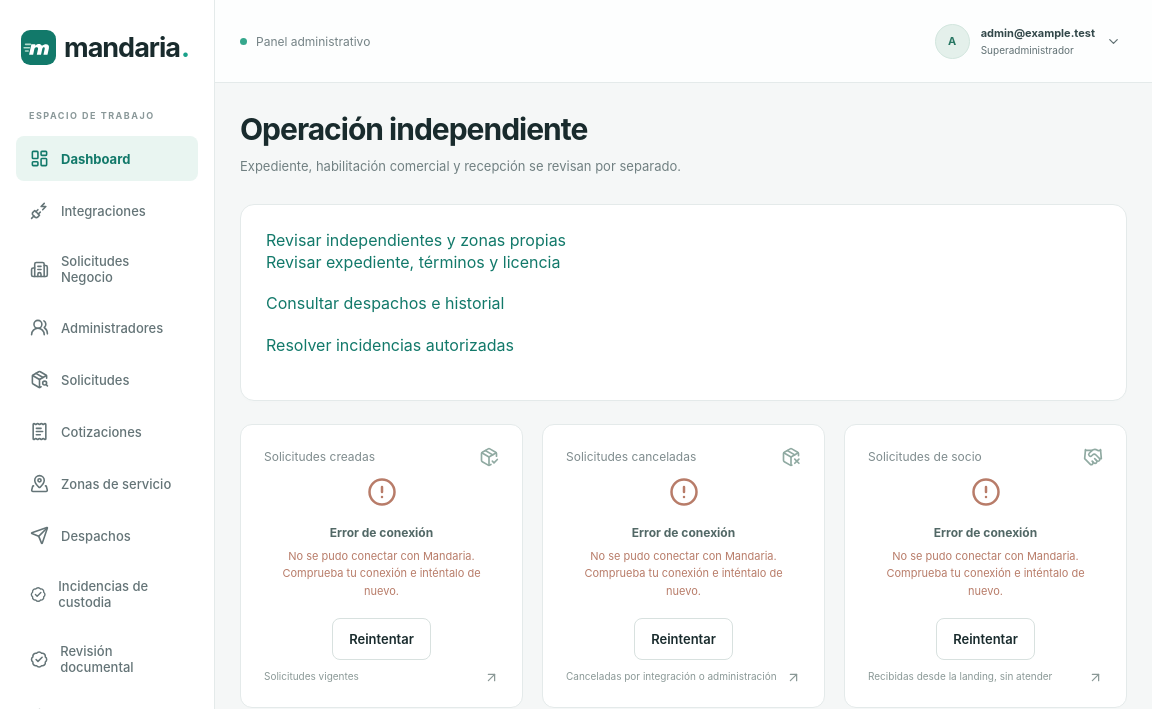
service zones list › opens from the menu and shows name, code, status, currency and the active rate
The image size is (1152, 709).
What coordinates should you click on to do the following:
click the link "Zonas de servicio"
I would click on:
 (101, 484)
Its box is 30,474 -> 171,493.
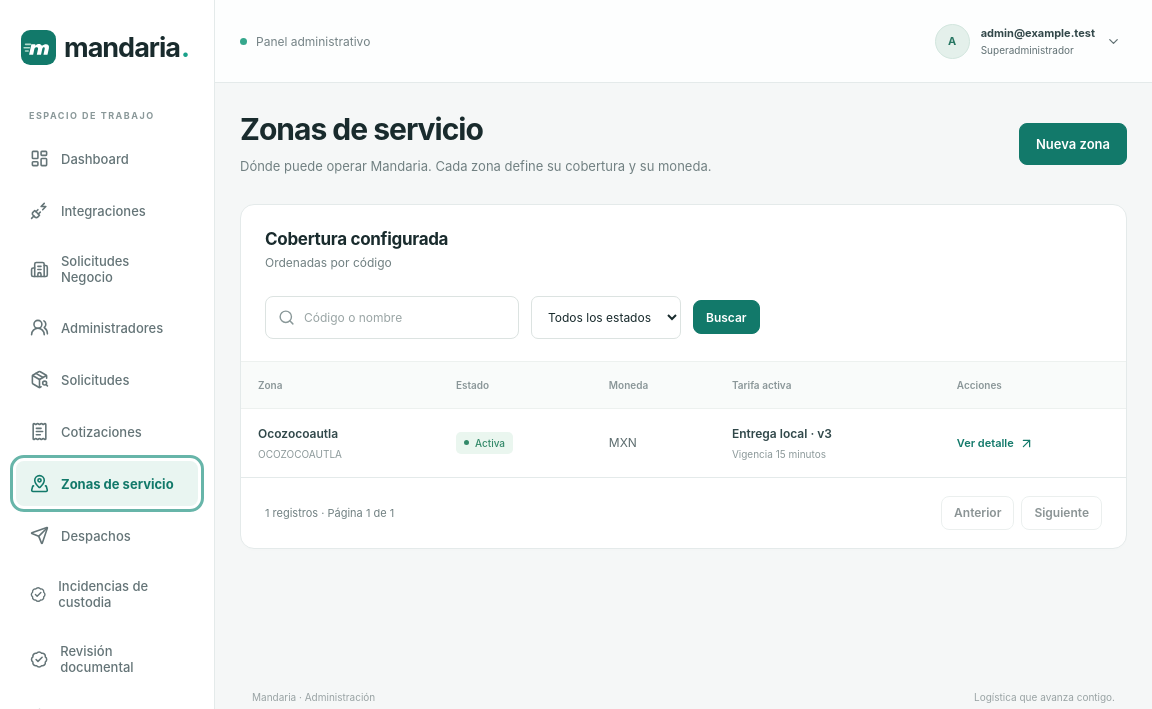
Expected: the heading "Zonas de servicio" is shown, 240,111 -> 483,147
Expected: the row that starts with "Ocozocoautla" is shown, 258,426 -> 422,460
Expected: the row that starts with "Ocozocoautla" shows "Activa", 475,437 -> 505,449
